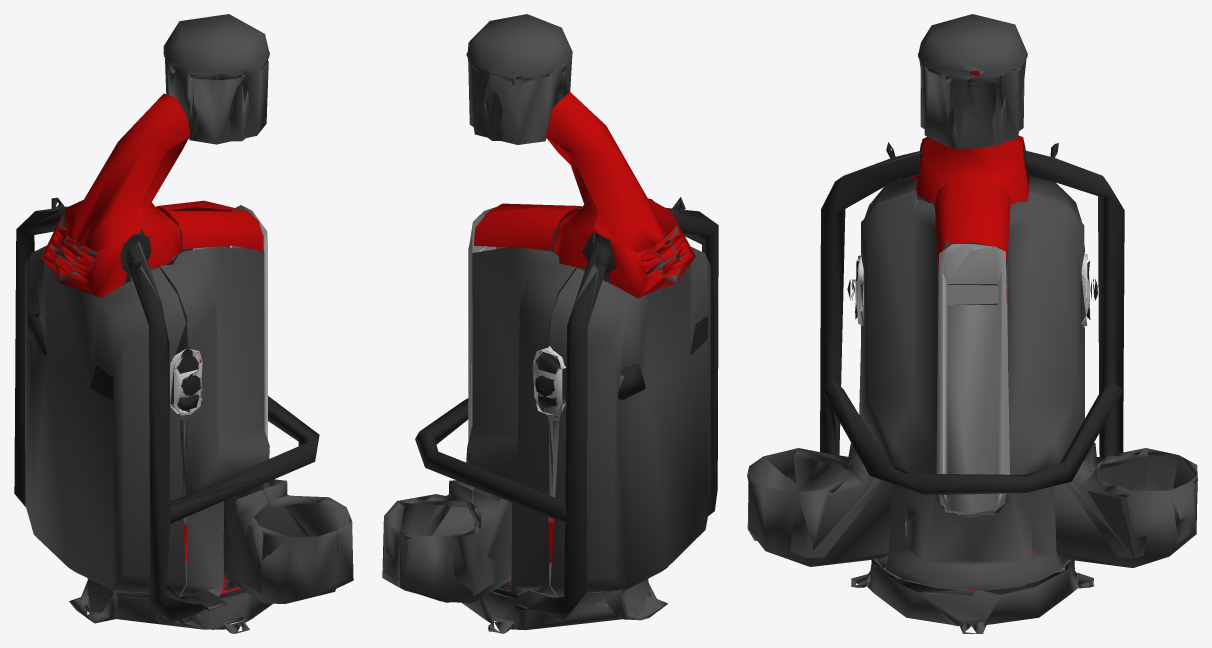
Rendered from base_link_decimate2.dae.
3 views of the same model, side by side, from view 1: azimuth 30°, elevation 25°; view 2: azimuth 150°, elevation 25°; view 3: azimuth 270°, elevation 25° (orthographic). The views are drawn at different scales.
Visible parts, largest first — view 1: base_link; view 2: base_link; view 3: base_link.
Boxes of the visible parts, x1=… form: base_link: x1=14, y1=14, x2=353, y2=633; base_link: x1=382, y1=14, x2=718, y2=633; base_link: x1=747, y1=14, x2=1197, y2=633.
Bounding box in the file's own units: 0.4197 × 0.6706 × 0.9371.
